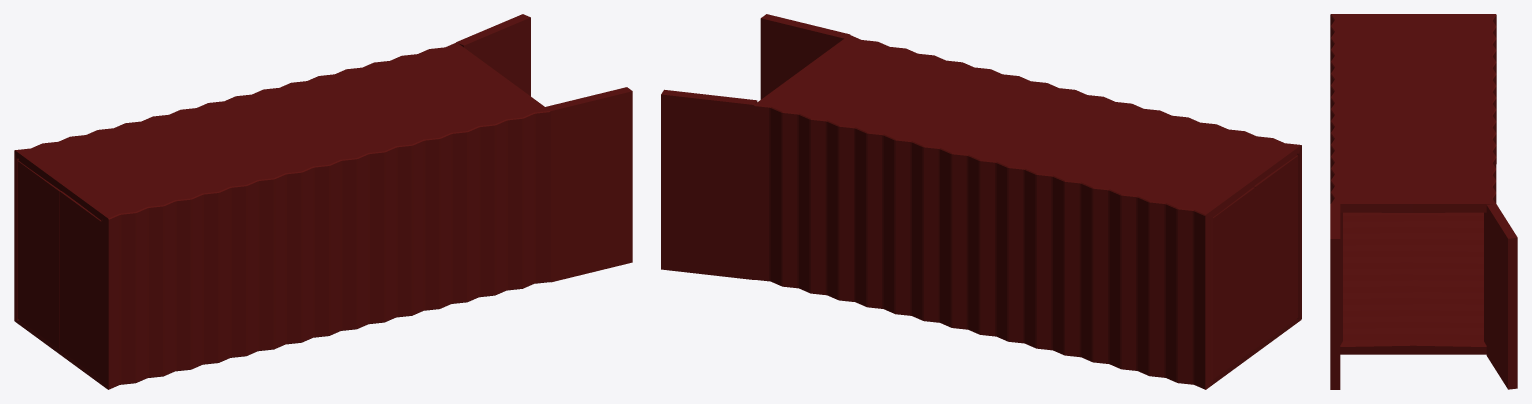
The model's file is shipment_open_red.glb.
3 views of the same model, side by side, from view 1: azimuth 30°, elevation 25°; view 2: azimuth 150°, elevation 25°; view 3: azimuth 270°, elevation 25° (orthographic). The views are drawn at different scales.
Visible parts, largest first — view 1: shipment_open_red; view 2: shipment_open_red; view 3: shipment_open_red.
Part boxes in pixels (x1,y1,x2,y2): shipment_open_red: [14, 14, 632, 389]; shipment_open_red: [661, 14, 1301, 389]; shipment_open_red: [1330, 14, 1517, 389].
Bounding box in the file's own units: 6.43 × 2 × 2.25.
